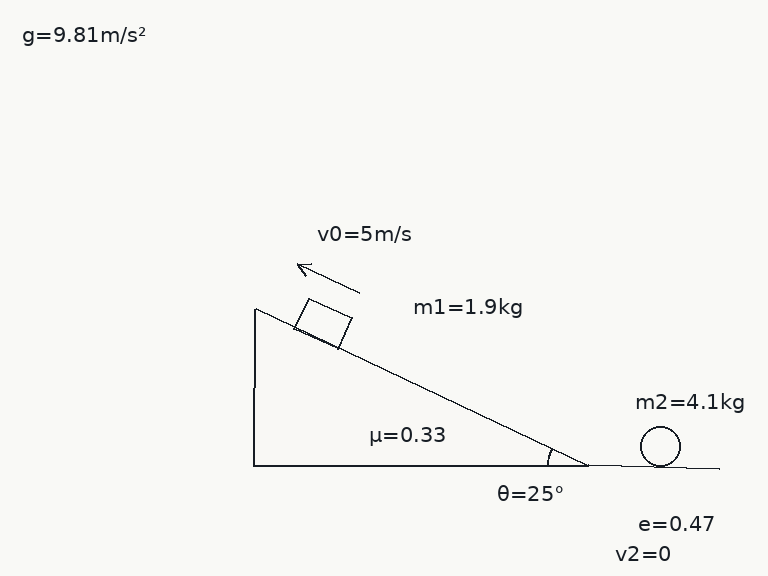ball: (638, 424, 682, 468)
block: (292, 296, 352, 351)
ramp: (252, 308, 590, 468)
